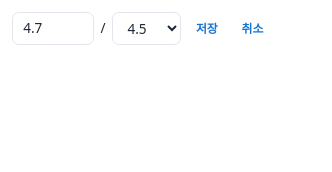
Test case: GpaEditor › 만점을 넘으면 서버가 알려 준 이유를 보여 줍니다
This screenshot has width=332, height=172.
Click the button "저장" at (207, 29), box [187,13,226,44]
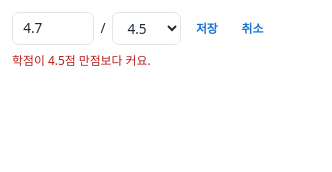
Check: the message reads "학점이 4.5점 만점보다 커요.", box [12,52,151,68]
